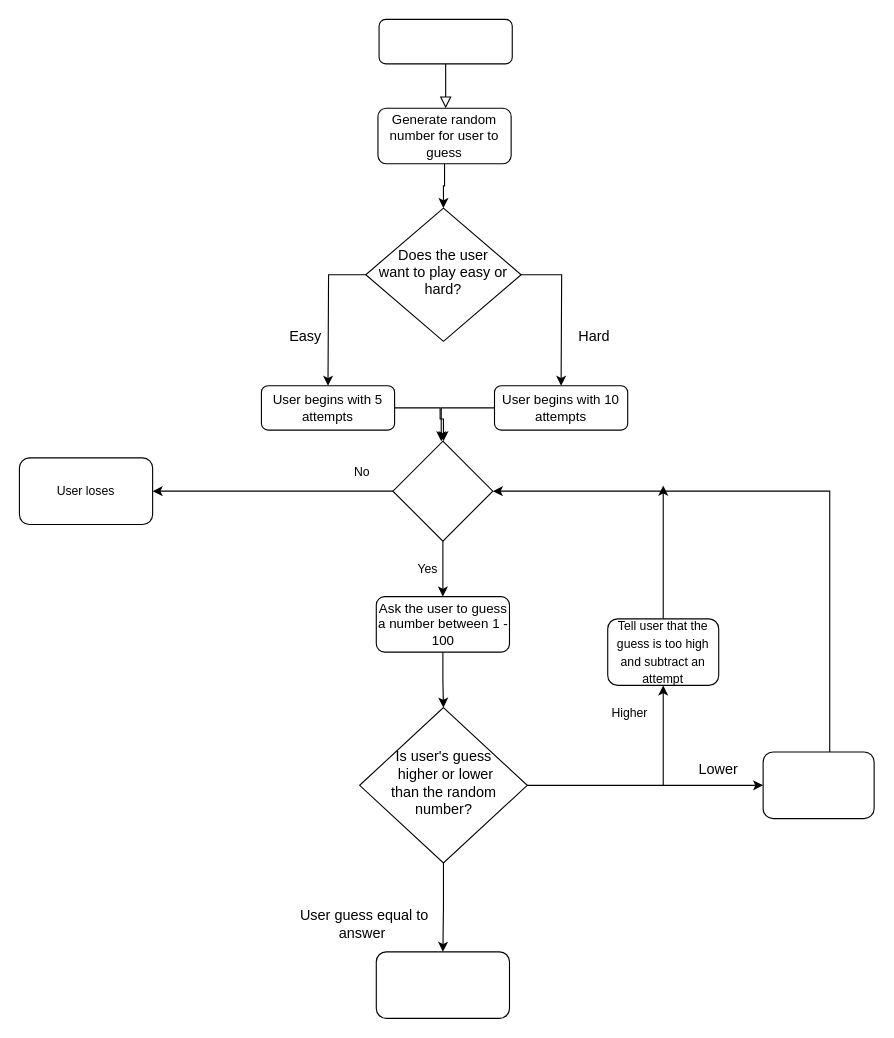
This 894x1038 diagram has some shape labels left out. Here are the shapes that lost their labels. From the top down, the box of each, then its label:
(378, 18, 512, 64): Start
(392, 440, 493, 541): Is attempts left greater than zero?
(762, 751, 874, 819): Tell user that the guess is too low and subtract an attempt
(375, 951, 509, 1018): Win and display answer
